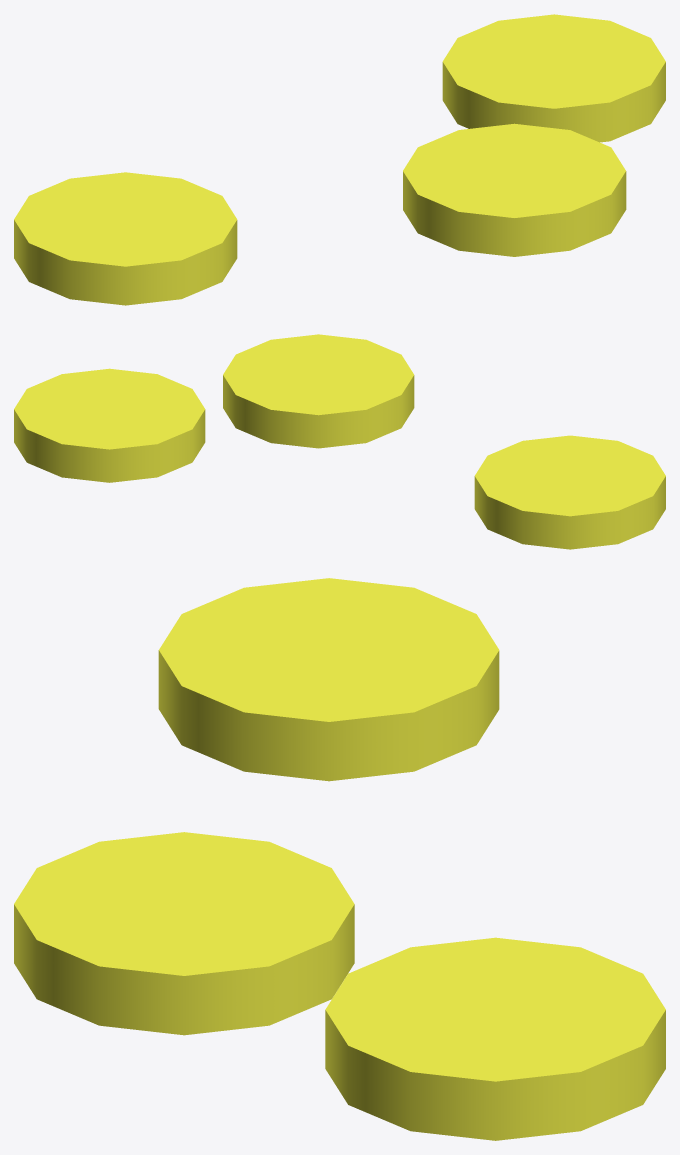
Rendered from Coins 1.glb.
The picture shows the model from 3 angles, top to bottom: view 1: azimuth 30°, elevation 25°; view 2: azimuth 150°, elevation 25°; view 3: azimuth 270°, elevation 25°; orthographic projection. The views are drawn at different scales.
Visible parts, largest first — view 1: coins_1; view 2: coins_1; view 3: coins_1.
Boxes of the visible parts, <box> form: coins_1: <box>14,14,665,305</box>; coins_1: <box>14,334,665,549</box>; coins_1: <box>14,578,665,1140</box>.
Bounding box in the file's own units: 0.6996 × 0.0384 × 0.3828.
